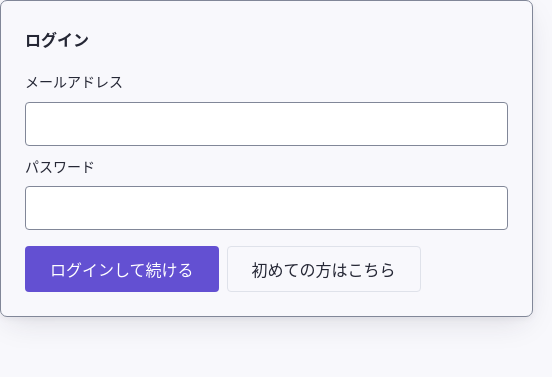
Test: AuthPanel › shows distinct Japanese copy for alreadyRegistered
Type "reader@example.com" into the field labelled "メールアドレス" at [266, 124], box [25,102,508,146]
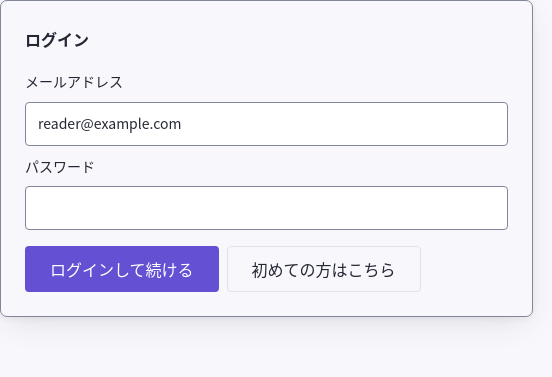
Type "password" into the password field labelled "パスワード" at [266, 208], box [25,186,508,230]
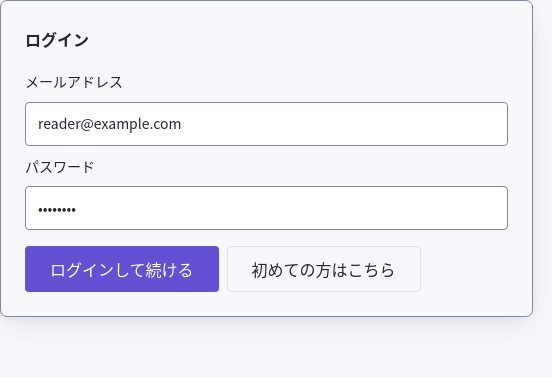
Click the button "ログインして続ける" at [122, 269], box [25,246,218,292]
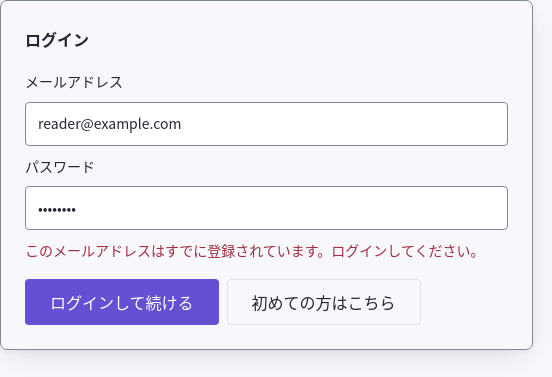
Result: the message reads "このメールアドレスはすでに登録されています。ログインしてください。" at [25,240,484,260]
